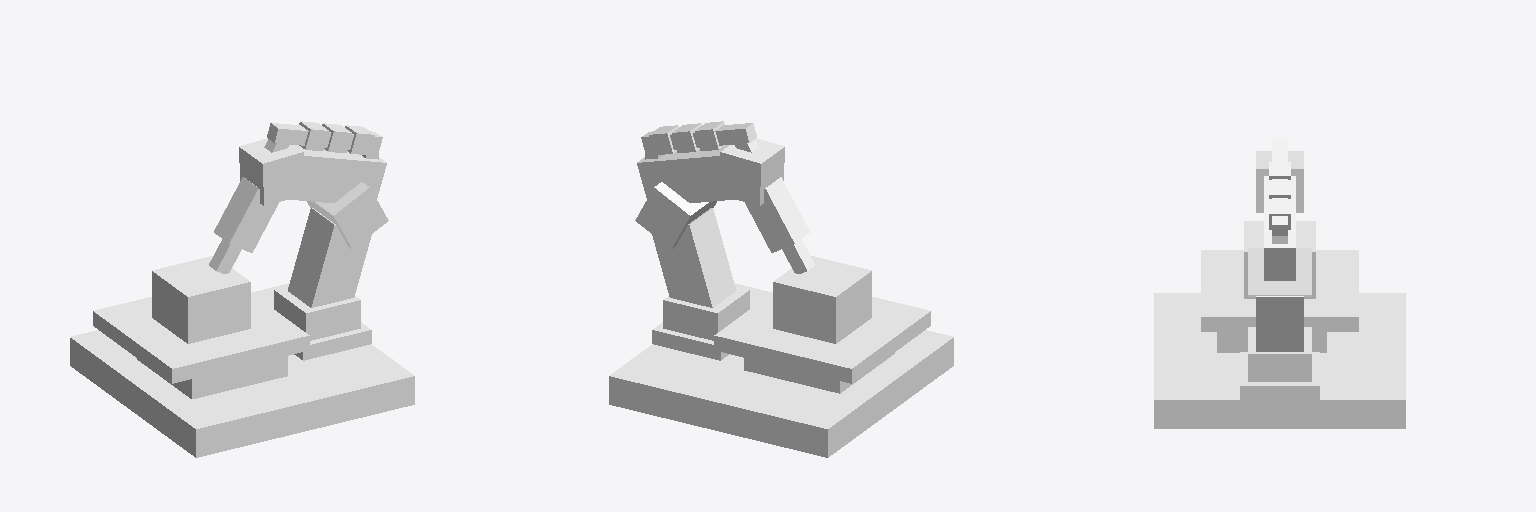
Rendered from printer.obj.
3 renders of one model, left to right at view 1: azimuth 30°, elevation 25°; view 2: azimuth 150°, elevation 25°; view 3: azimuth 270°, elevation 25°, orthographic.
Parts seen in each view (by area): view 1: all, base, roboticArm1_3, grass1_5, roboticArm1_4, roboticArm1_2, bone, roboticArm1_1; view 2: all, base, roboticArm1_3, grass1_5, roboticArm1_4, roboticArm1_2, bone, roboticArm1_1; view 3: all, base, roboticArm1_3, roboticArm1_2, bone, roboticArm1_1, grass1_5, roboticArm1_4.
Boxes of the visible parts, <box> form: all: <box>70,283,414,457</box>; base: <box>93,293,309,383</box>; roboticArm1_3: <box>264,121,388,249</box>; grass1_5: <box>152,256,250,343</box>; roboticArm1_4: <box>209,138,304,273</box>; roboticArm1_2: <box>288,208,371,307</box>; bone: <box>274,287,360,340</box>; roboticArm1_1: <box>294,322,371,360</box>; all: <box>609,283,953,457</box>; base: <box>714,293,930,383</box>; roboticArm1_3: <box>635,121,759,249</box>; grass1_5: <box>773,256,871,343</box>; roboticArm1_4: <box>719,138,814,273</box>; roboticArm1_2: <box>652,208,735,307</box>; bone: <box>663,287,749,340</box>; roboticArm1_1: <box>652,322,729,360</box>; all: <box>1154,293,1405,428</box>; base: <box>1201,250,1358,331</box>; roboticArm1_3: <box>1248,139,1311,296</box>; roboticArm1_2: <box>1256,296,1303,351</box>; bone: <box>1248,327,1311,381</box>; roboticArm1_1: <box>1240,352,1319,399</box>; grass1_5: <box>1244,221,1315,298</box>; roboticArm1_4: <box>1256,151,1303,212</box>.
Bounding box in the file's own units: 1.13 × 1.1 × 1.